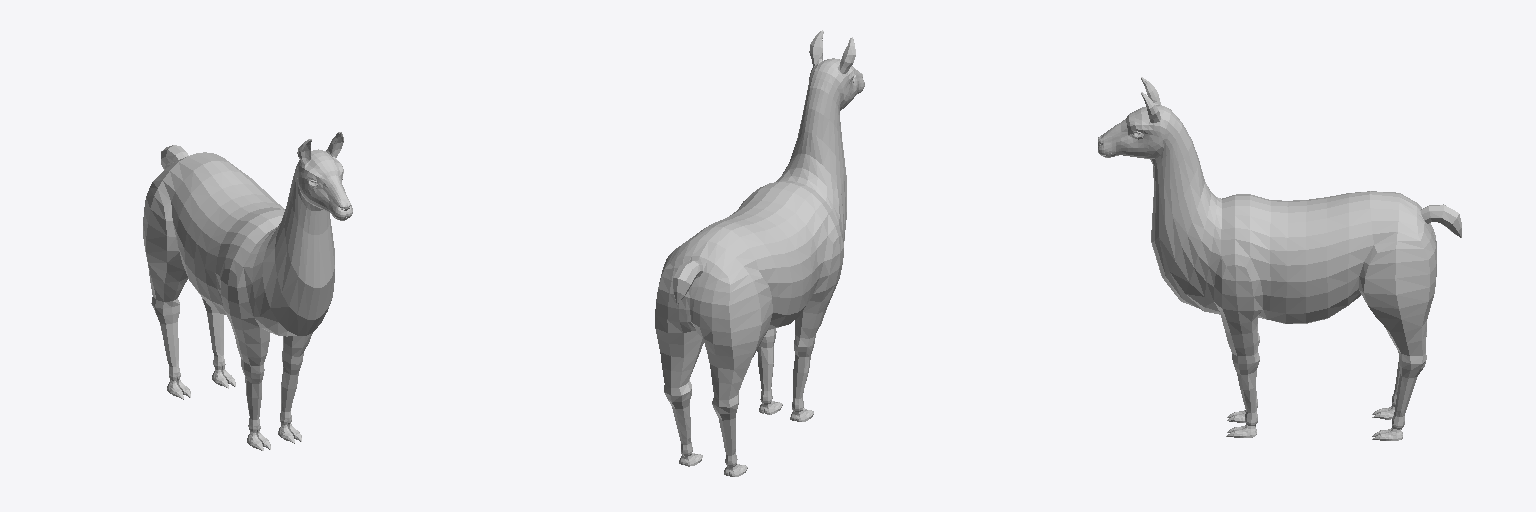
Rendered from llama_llama.obj.
3 renders of one model, left to right at view 1: azimuth 30°, elevation 25°; view 2: azimuth 150°, elevation 25°; view 3: azimuth 270°, elevation 25°, orthographic.
Bounding box in the file's own units: 0.5862 × 1.85 × 1.79.